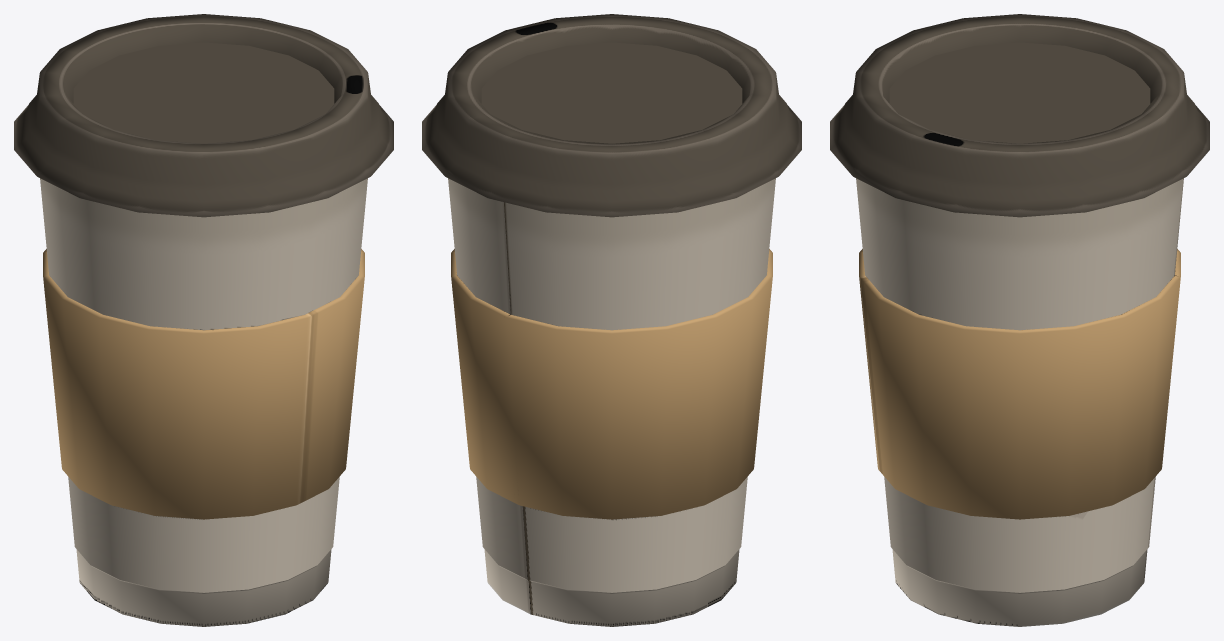
Rendered from TravelCupModel 1.fbx.
3 renders of one model, left to right at view 1: azimuth 30°, elevation 25°; view 2: azimuth 150°, elevation 25°; view 3: azimuth 270°, elevation 25°, orthographic.
Visible parts, largest first — view 1: TravelCup; view 2: TravelCup; view 3: TravelCup.
Boxes of the visible parts, x1,y1,x2,y2 form: TravelCup: [14, 14, 393, 626]; TravelCup: [422, 14, 801, 626]; TravelCup: [830, 14, 1209, 626].
Bounding box in the file's own units: 0.0972 × 0.136 × 0.0957.
1 material, 1 textured.
